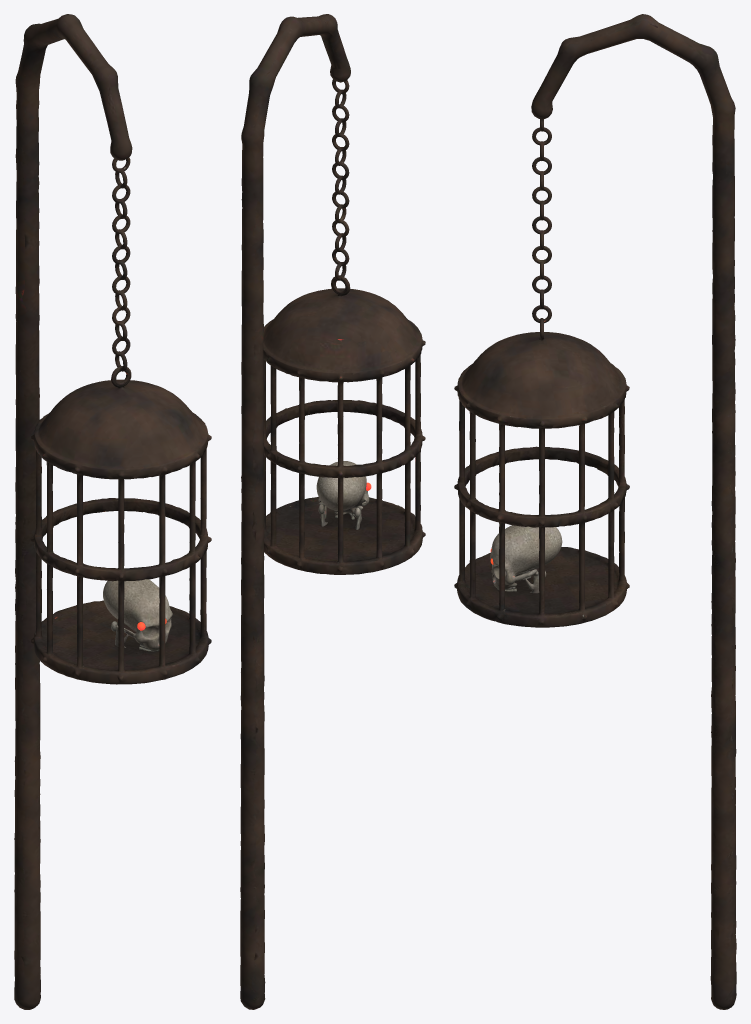
The model's file is hanging_cage.glb.
The picture shows the model from 3 angles, left to right: view 1: azimuth 30°, elevation 25°; view 2: azimuth 150°, elevation 25°; view 3: azimuth 270°, elevation 25°; orthographic projection. The views are drawn at different scales.
Visible parts, largest first — view 1: Gibbet_Cage, Hook_Post, Cage_Skull_cranium, Chain; view 2: Gibbet_Cage, Hook_Post, Chain, Cage_Skull_cranium; view 3: Gibbet_Cage, Hook_Post, Cage_Skull_cranium, Chain.
Boxes of the visible parts, bbox=[...] form: Gibbet_Cage: bbox=[30, 366, 211, 684]; Hook_Post: bbox=[14, 14, 132, 1009]; Cage_Skull_cranium: bbox=[103, 579, 172, 650]; Chain: bbox=[112, 157, 130, 385]; Gibbet_Cage: bbox=[263, 275, 425, 574]; Hook_Post: bbox=[240, 14, 350, 1009]; Chain: bbox=[332, 79, 349, 293]; Cage_Skull_cranium: bbox=[316, 461, 369, 517]; Gibbet_Cage: bbox=[454, 318, 629, 627]; Hook_Post: bbox=[531, 14, 736, 1009]; Cage_Skull_cranium: bbox=[490, 525, 562, 589]; Chain: bbox=[532, 118, 551, 323].
Size of the model in its own units: 0.4837 by 3.02 by 0.7776.
Materials: 1 (1 with a texture image).
